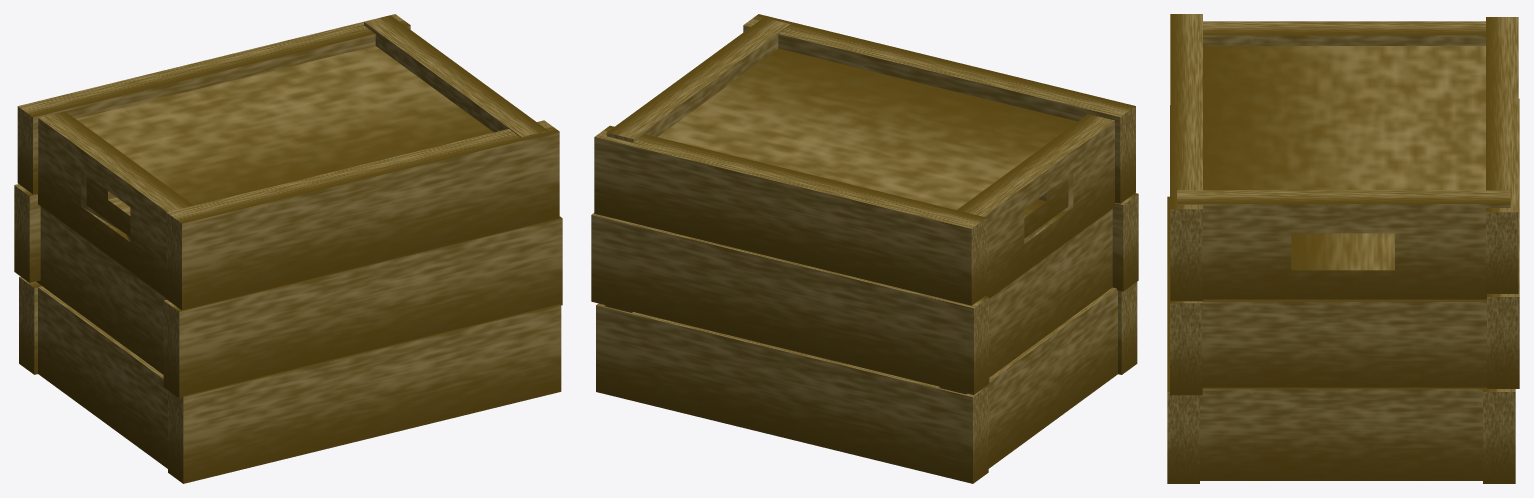
The picture shows the model from 3 angles, left to right: view 1: azimuth 30°, elevation 25°; view 2: azimuth 150°, elevation 25°; view 3: azimuth 270°, elevation 25°; orthographic projection. The views are drawn at different scales.
Visible parts, largest first — view 1: Box011; view 2: Box011; view 3: Box011.
Part boxes in pixels (x1=…): Box011: x1=14, y1=14, x2=562, y2=483; Box011: x1=591, y1=14, x2=1138, y2=483; Box011: x1=1167, y1=14, x2=1519, y2=483.
Size of the model in its own units: 45.39 by 29.41 by 34.09.
